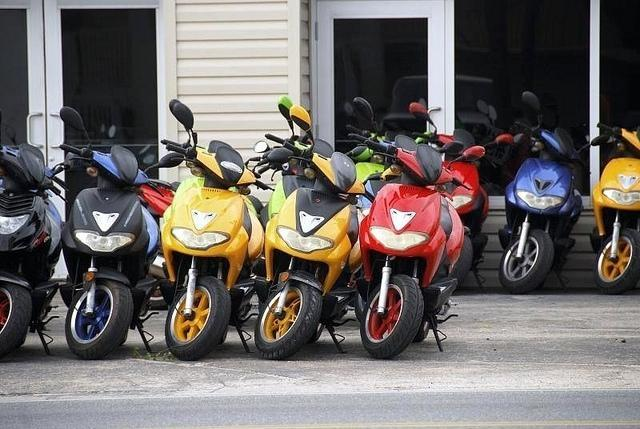motorcycle: (256, 104, 403, 363), (59, 106, 184, 362), (158, 98, 276, 362), (350, 135, 486, 360), (497, 86, 612, 294), (410, 102, 513, 291), (1, 144, 70, 362), (260, 138, 372, 231), (590, 122, 640, 294), (358, 154, 392, 178)
